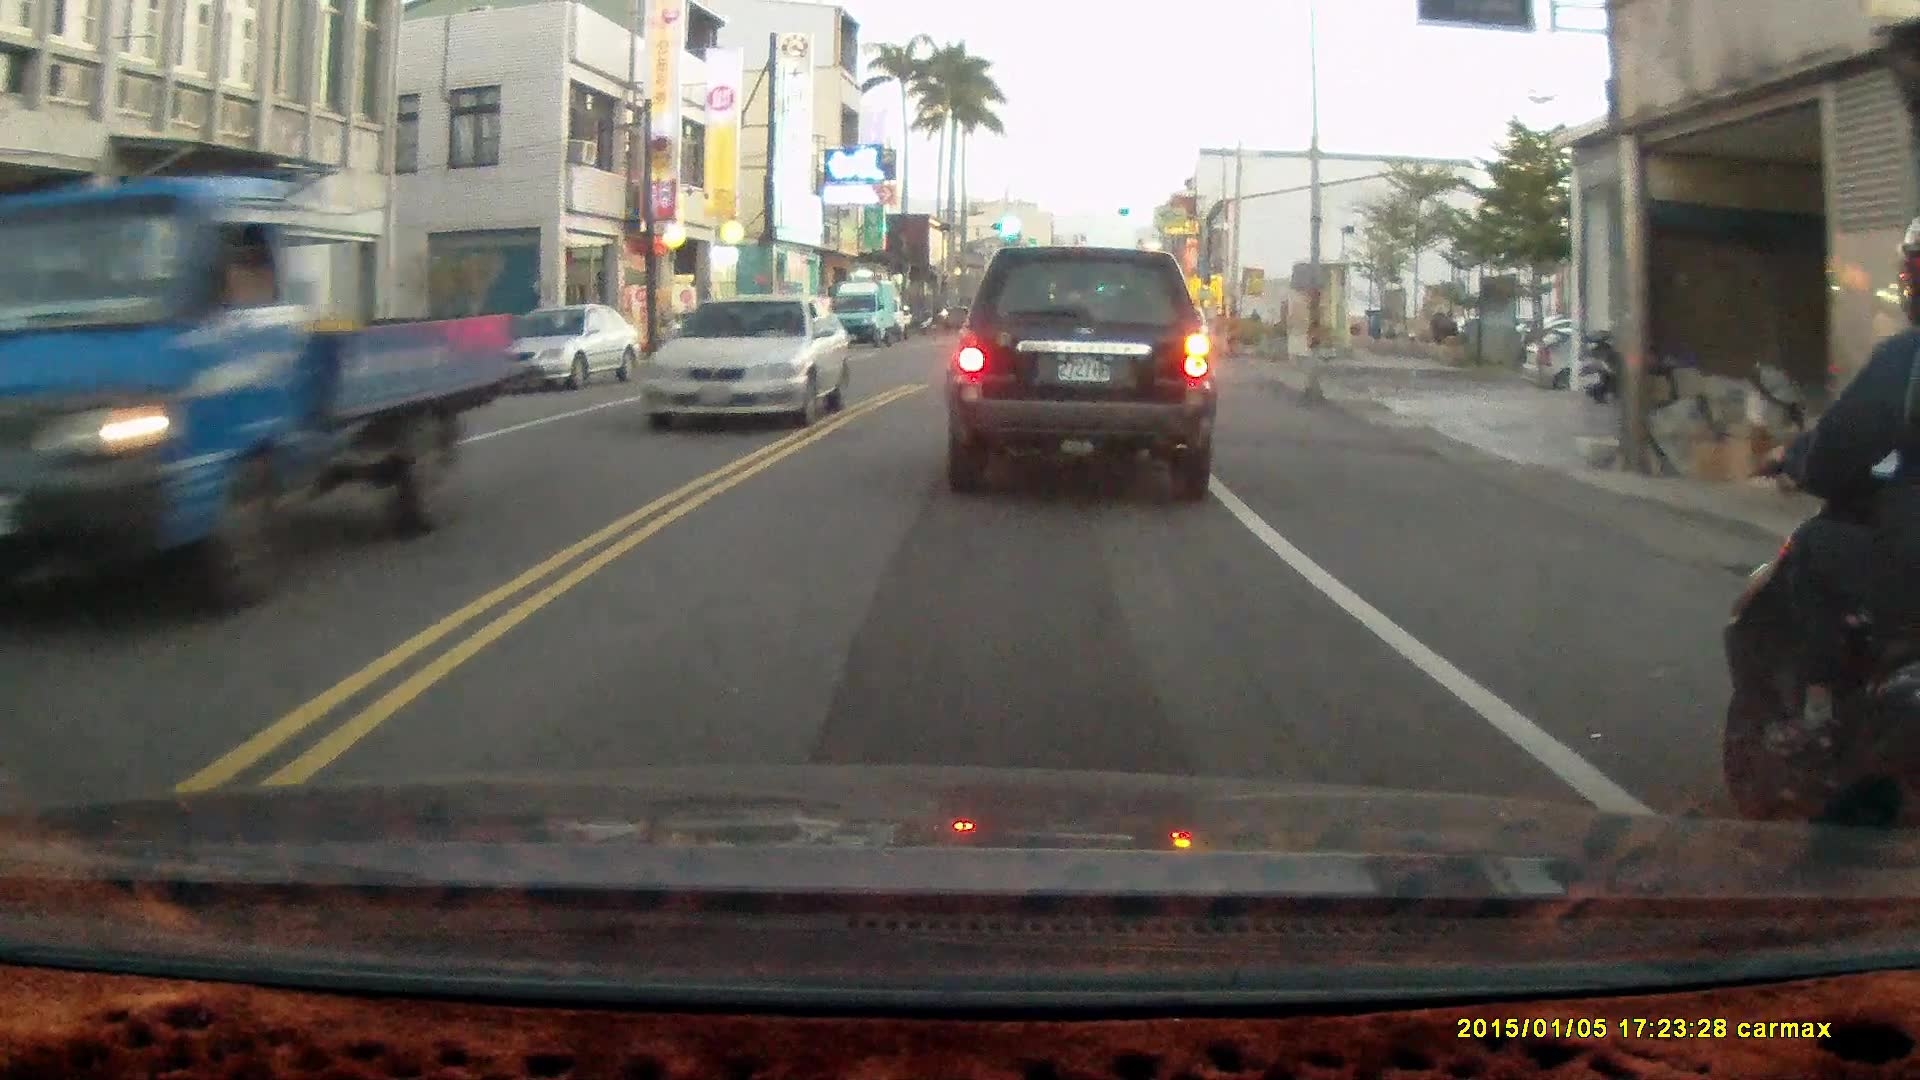rider: (1721, 216, 1920, 904)
vehicle: (1, 172, 513, 615), (941, 243, 1215, 493), (643, 293, 851, 430), (1516, 320, 1713, 400), (477, 301, 642, 393), (824, 276, 910, 349)
